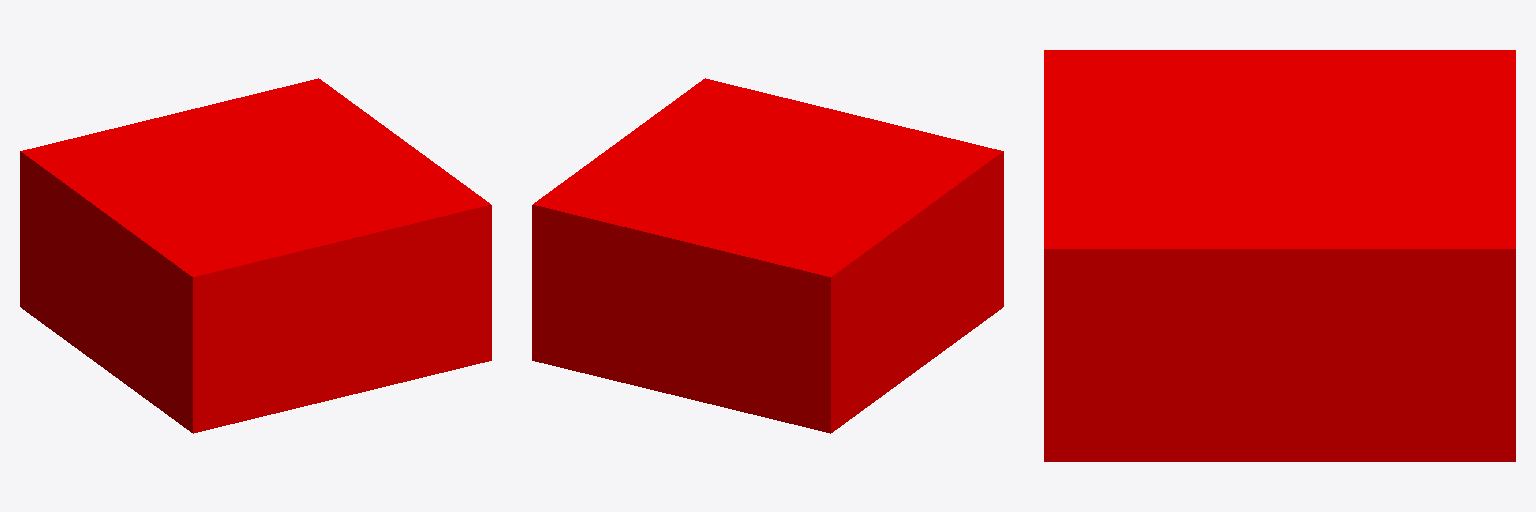
robot.urdf — RedCubeDE4:
<?xml version="1.0"?>
<robot name="RedCubeDE4">
	<link name="base">
<inertial>
<origin xyz="0 0 0" rpy="0 0 0"/>
<mass value="0.5"/>
<inertia ixx="0.000683333" ixy="0" ixz="0" iyy="0.000683333" iyz="0" izz="0.000683333"/>
</inertial>
		<visual>
			<origin xyz="0 0 0" rpy="0 0 0" />
			<geometry>
				<box size="0.04 0.04 0.02" />
			</geometry>
			<material>
				<color rgba="1 0 0 1" />
			</material>
		</visual>
	</link>
</robot>

--- Render facts (derived) ---
Views: 3 orthographic renders of the robot side by side, from view 1: azimuth 30°, elevation 25°; view 2: azimuth 150°, elevation 25°; view 3: azimuth 270°, elevation 25°.
Model RedCubeDE4 with 1 links and 0 joints (none), rooted at base, posed all joints at 0.
Visible links, largest first — view 1: base; view 2: base; view 3: base.
Link boxes in pixels (x1=…): base: x1=20, y1=78, x2=491, y2=433; base: x1=532, y1=78, x2=1003, y2=433; base: x1=1044, y1=50, x2=1515, y2=461.
Bounding box of the posed robot: 0.04 × 0.04 × 0.02 m (x, y, z).
Geometry: primitives only (box / cylinder / sphere), no mesh files.
